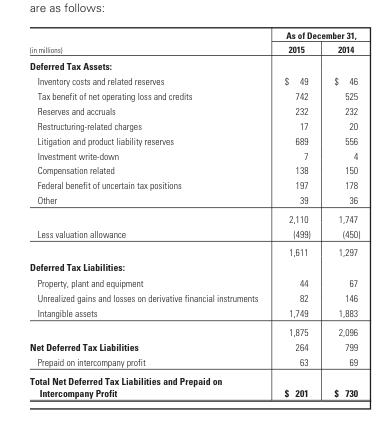table: (29, 29, 359, 398)
table column: (29, 29, 270, 398), (270, 29, 321, 398), (321, 29, 359, 398)
table column header: (29, 29, 359, 57)
table projected row header: (29, 57, 359, 73), (29, 259, 359, 274)
table row: (29, 370, 359, 398), (29, 192, 359, 209), (29, 225, 359, 242), (29, 242, 359, 259), (29, 305, 359, 322), (29, 353, 359, 370), (29, 41, 359, 57), (29, 57, 359, 73), (29, 209, 359, 225), (29, 274, 359, 290), (29, 322, 359, 338), (29, 73, 359, 88), (29, 88, 359, 103), (29, 103, 359, 118), (29, 132, 359, 147), (29, 147, 359, 162), (29, 162, 359, 177), (29, 177, 359, 192), (29, 259, 359, 274), (29, 290, 359, 305), (29, 338, 359, 353), (29, 118, 359, 132), (29, 29, 359, 41)
table spanning cell: (29, 29, 270, 57), (270, 29, 359, 41)
